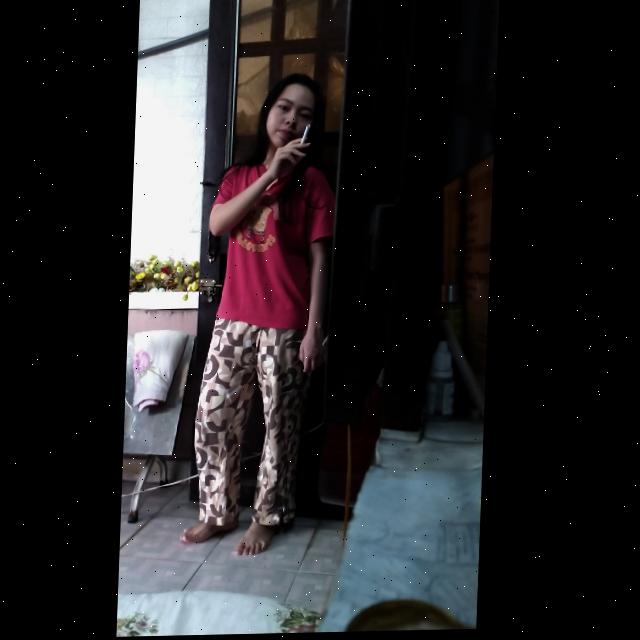cigarette: (302, 127, 312, 146)
